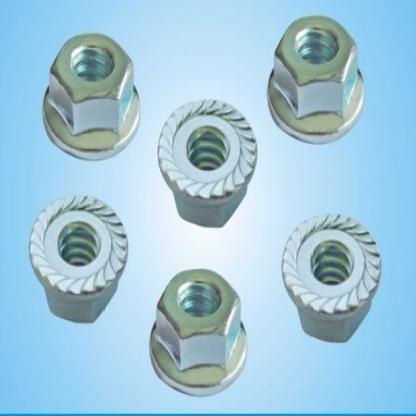FOD: (27, 193, 130, 331), (155, 95, 259, 228), (279, 211, 383, 344), (147, 267, 249, 399), (42, 30, 142, 164), (267, 13, 365, 143)
